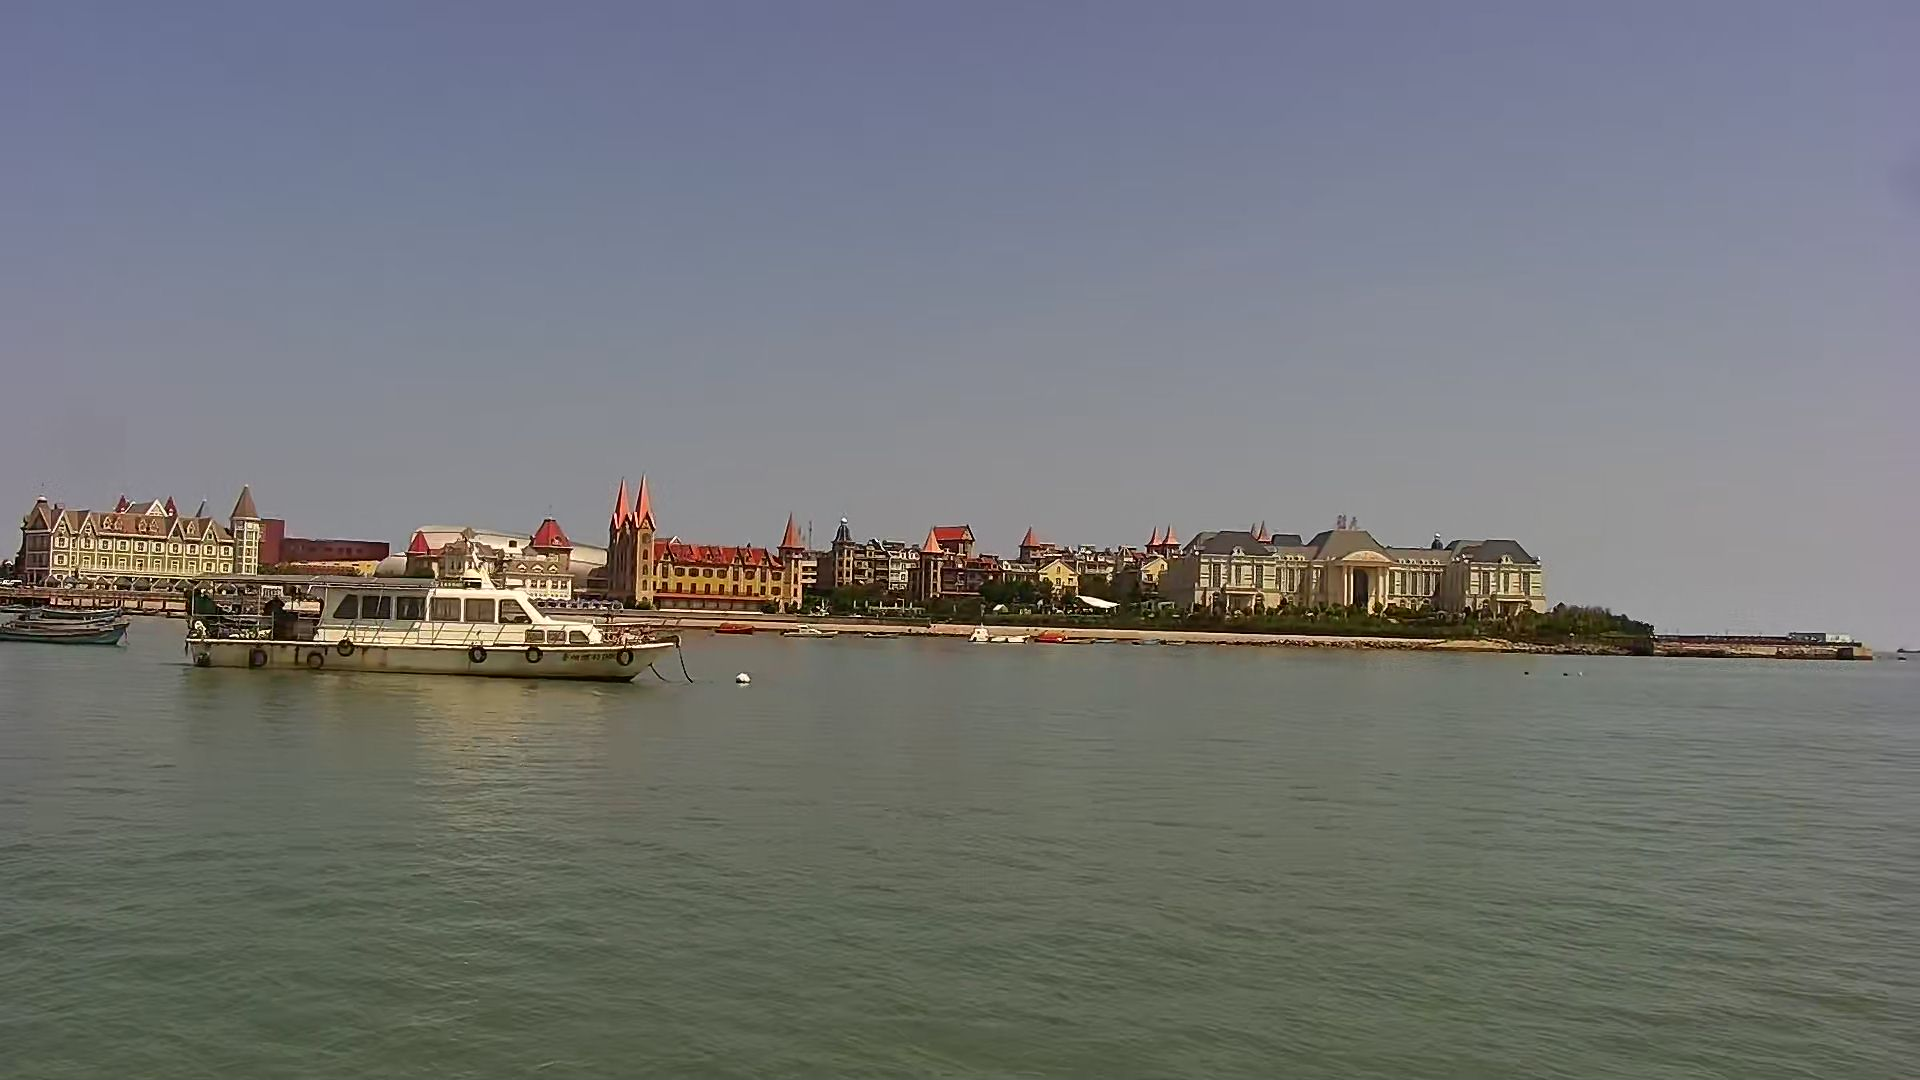ball: (735, 669, 752, 688)
boat: (4, 615, 133, 649)
ship: (186, 563, 676, 684)
